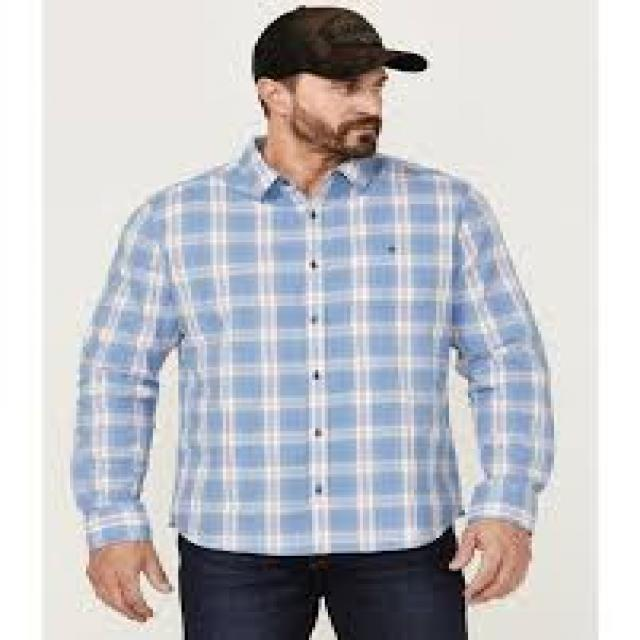plaid: (80, 136, 554, 540)
